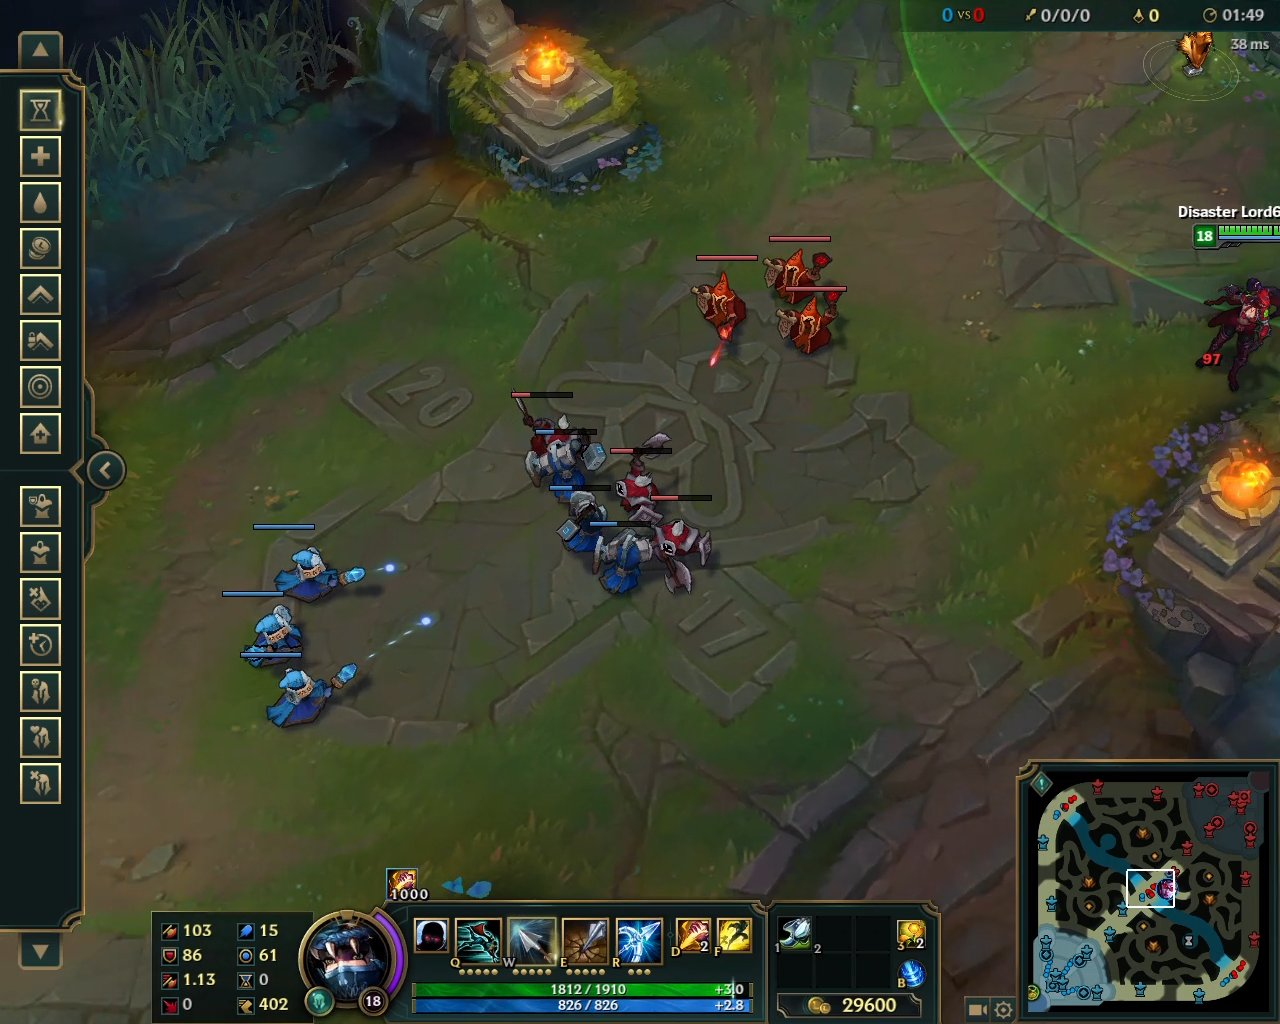EnemyMinion: (642, 495, 716, 600), (605, 434, 675, 530), (688, 252, 759, 343), (770, 280, 850, 360), (761, 233, 837, 304), (512, 388, 590, 457)
Vayne: (1192, 267, 1278, 405)
